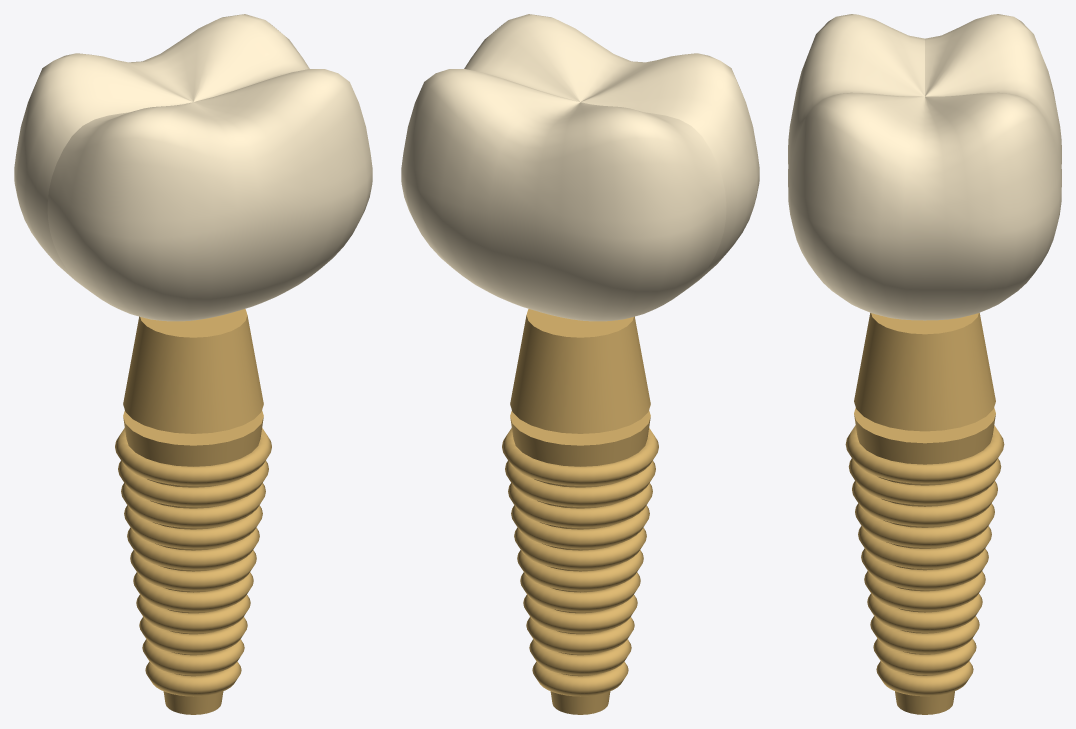
Rendered from dental.glb.
3 renders of one model, left to right at view 1: azimuth 30°, elevation 25°; view 2: azimuth 150°, elevation 25°; view 3: azimuth 270°, elevation 25°, orthographic.
Parts seen in each view (by area): view 1: crown, fixture, abutment; view 2: crown, fixture, abutment; view 3: crown, fixture, abutment.
Part boxes in pixels (x1=…): crown: x1=14, y1=14, x2=372, y2=321; fixture: x1=115, y1=410, x2=271, y2=714; abutment: x1=123, y1=309, x2=263, y2=433; crown: x1=401, y1=14, x2=759, y2=321; fixture: x1=502, y1=410, x2=658, y2=714; abutment: x1=510, y1=309, x2=650, y2=433; crown: x1=788, y1=14, x2=1061, y2=320; fixture: x1=845, y1=407, x2=1004, y2=714; abutment: x1=854, y1=313, x2=995, y2=431.
Size of the model in its own units: 1.44 by 3 by 1.16.
